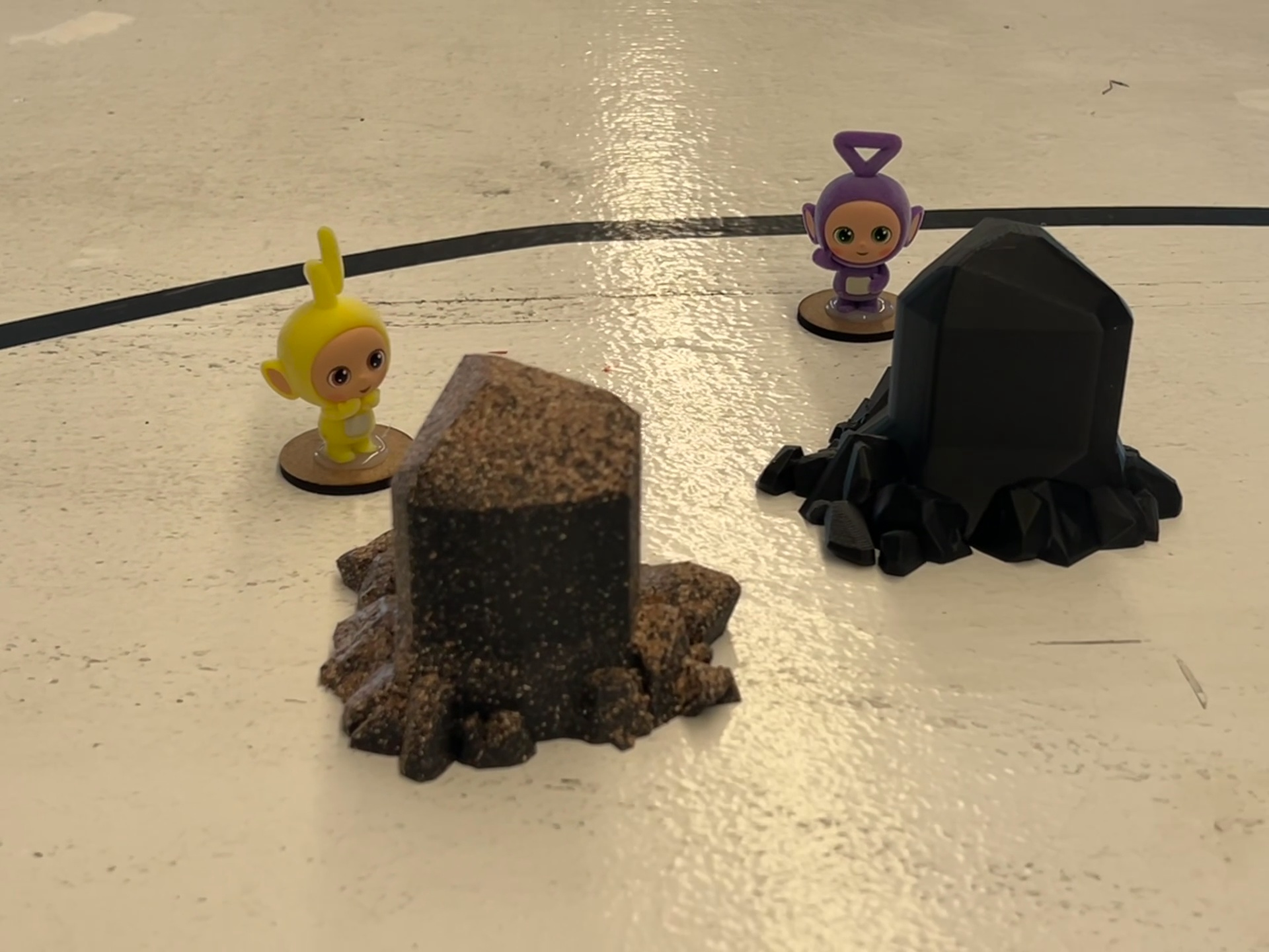teletubby: (260, 227, 391, 464), (802, 131, 924, 315)
